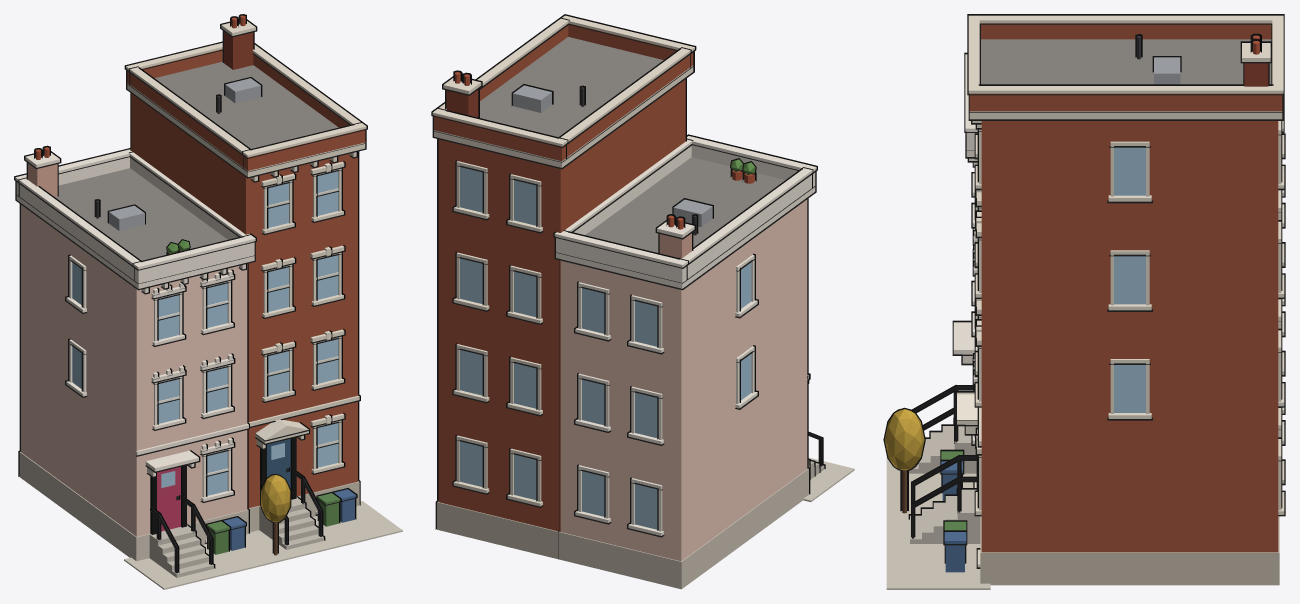
The model's file is SiraEv_karisik_1_1.fbx.
3 renders of one model, left to right at view 1: azimuth 30°, elevation 25°; view 2: azimuth 150°, elevation 25°; view 3: azimuth 270°, elevation 25°, orthographic. The views are drawn at different scales.
Visible parts, largest first — view 1: SiraEv_karisik_1_1; view 2: SiraEv_karisik_1_1; view 3: SiraEv_karisik_1_1.
Boxes of the visible parts, left/top/right/bottom form: SiraEv_karisik_1_1: left=14, top=14, right=402, bottom=589; SiraEv_karisik_1_1: left=431, top=14, right=854, bottom=589; SiraEv_karisik_1_1: left=883, top=14, right=1285, bottom=589.
Bounding box in the file's own units: 8.93 × 14.85 × 10.06.
